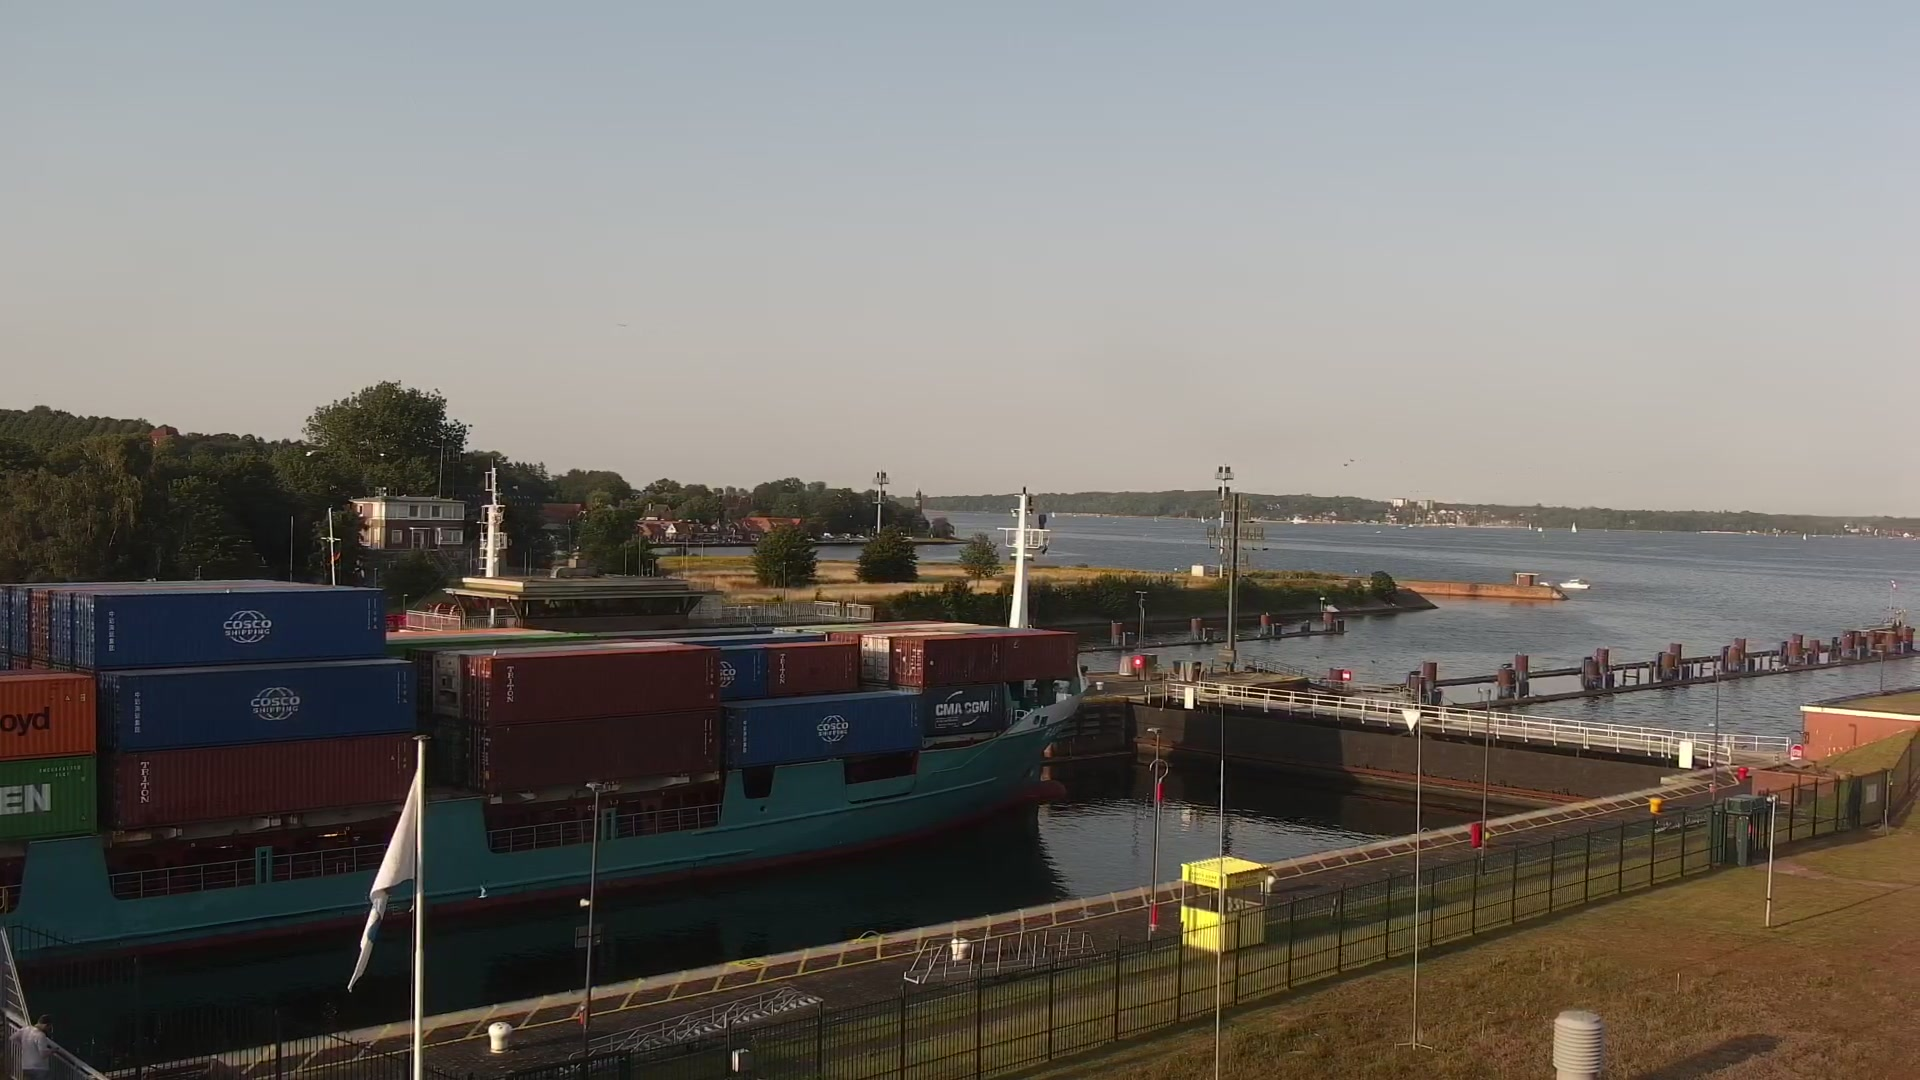human: (7, 1010, 58, 1080)
land: (824, 531, 836, 538)
sea: (1, 577, 1091, 974), (1559, 577, 1592, 590), (1569, 520, 1578, 534), (1199, 514, 1205, 524), (1802, 531, 1808, 542), (1050, 511, 1056, 519)
